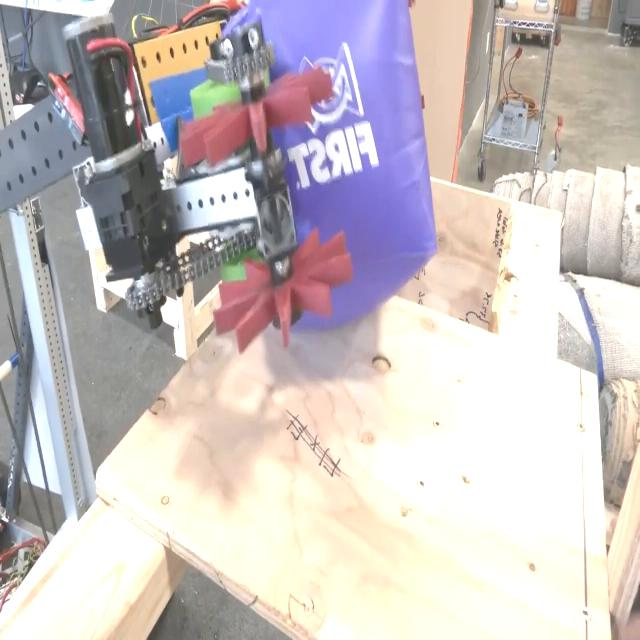frc_cube: (232, 0, 431, 343)
